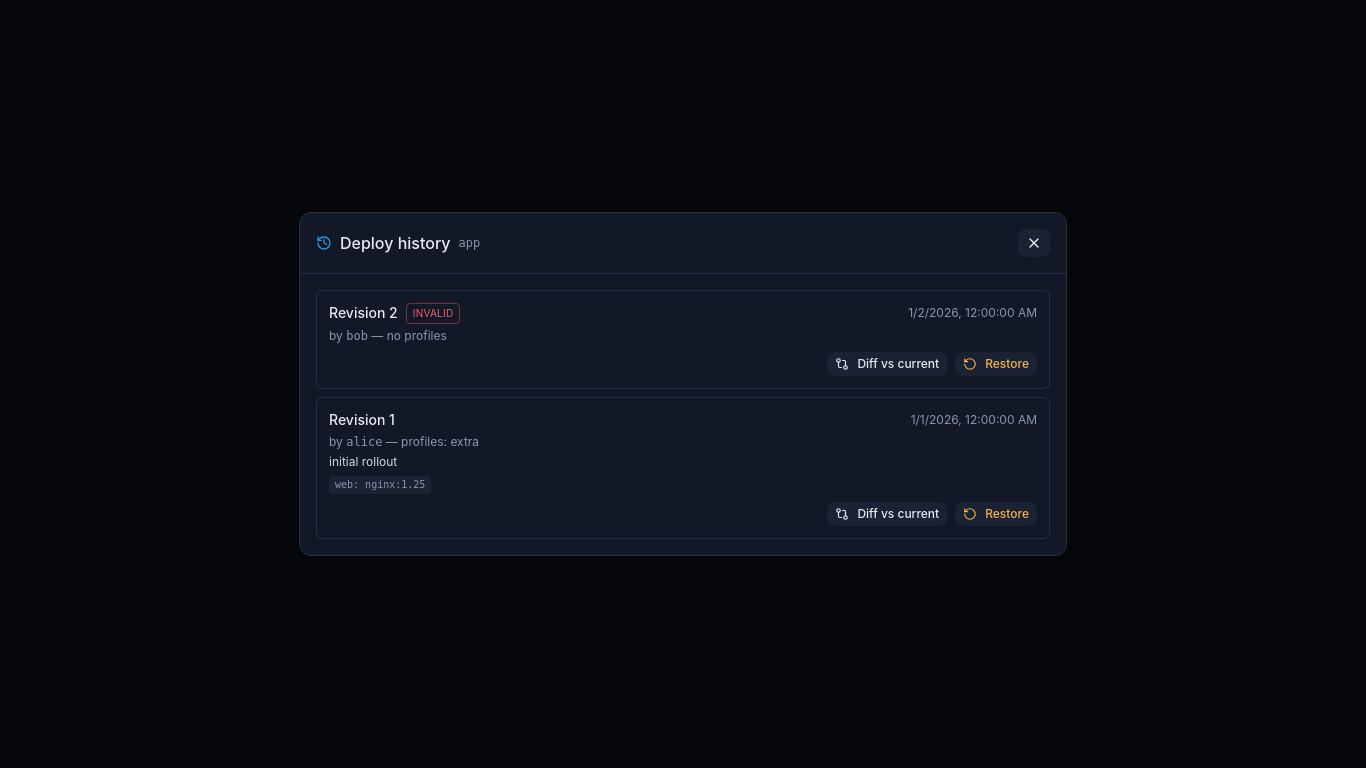
Test case: RevisionHistoryModal › Diff fetches and opens a read-only comparison against current
Click the button "Diff vs current" below "1/1/2026, 12:00:00 AM" at (887, 514), box [827,502,947,526]
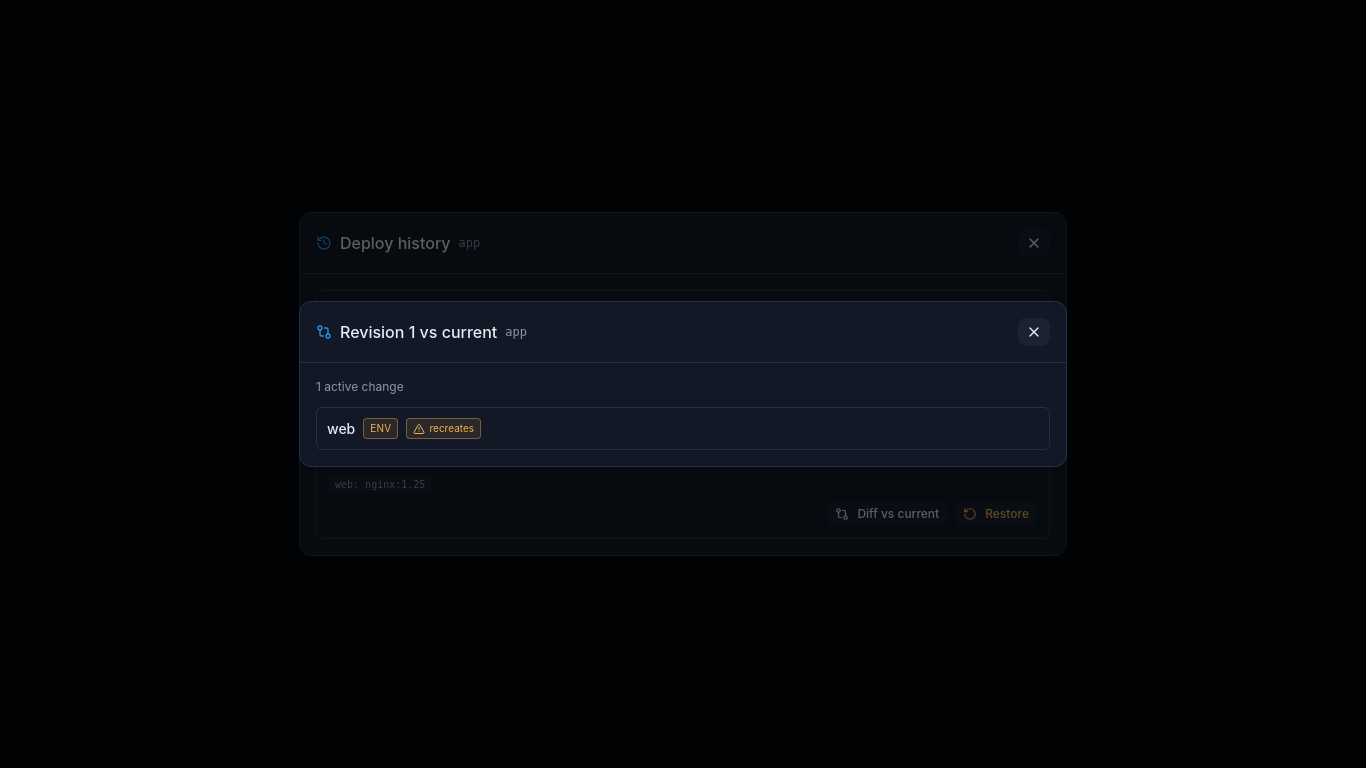
Now the text "Revision 1 vs current" is shown, box [340,320,497,344]
